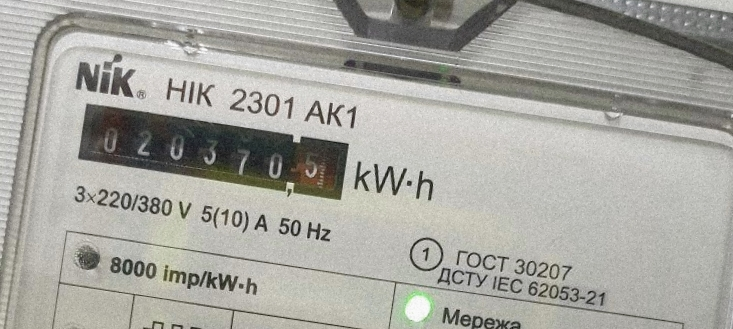0: (264, 150, 286, 182), (99, 123, 120, 154), (167, 131, 185, 161)
2: (132, 126, 155, 159)
3: (199, 135, 219, 167)
5: (300, 148, 322, 181)
7: (231, 146, 250, 178)
screen: (68, 95, 358, 211)
